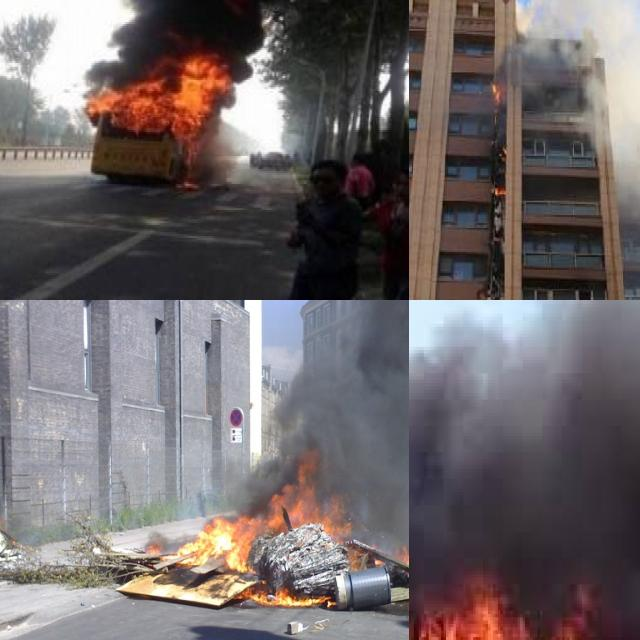fire: (163, 445, 409, 604), (96, 33, 232, 188), (409, 571, 640, 640), (493, 173, 509, 204), (492, 77, 507, 108)
smoke: (409, 300, 640, 604), (240, 300, 409, 542), (522, 0, 640, 239), (66, 0, 300, 82)
